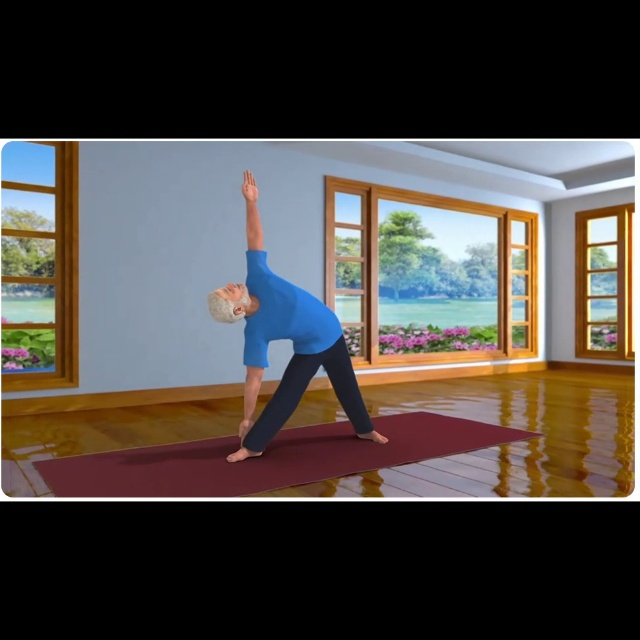Triangle_Pose: (191, 162, 405, 468)
